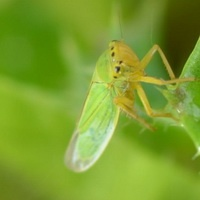insect: (65, 37, 199, 171), (143, 51, 170, 80), (141, 82, 167, 111)
